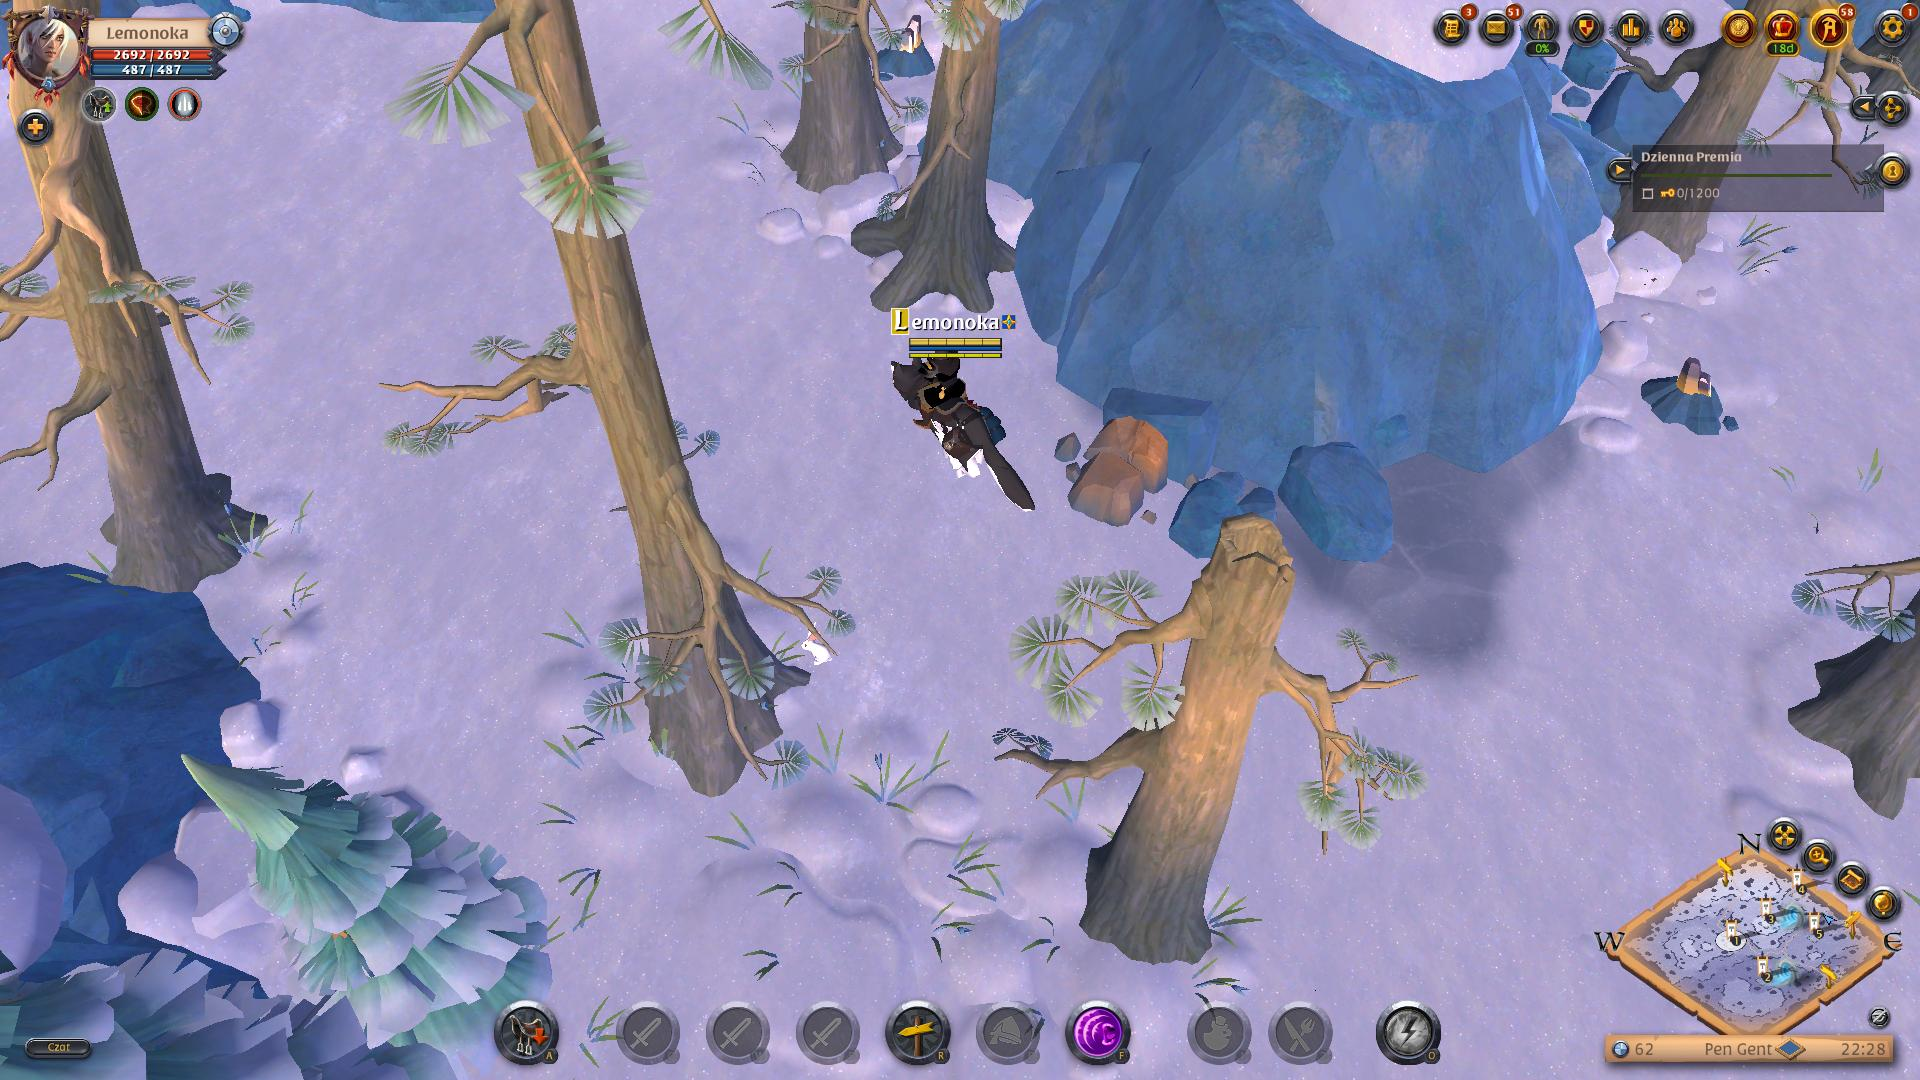rock tier 2: (1054, 411, 1174, 533), (1640, 352, 1745, 444)
